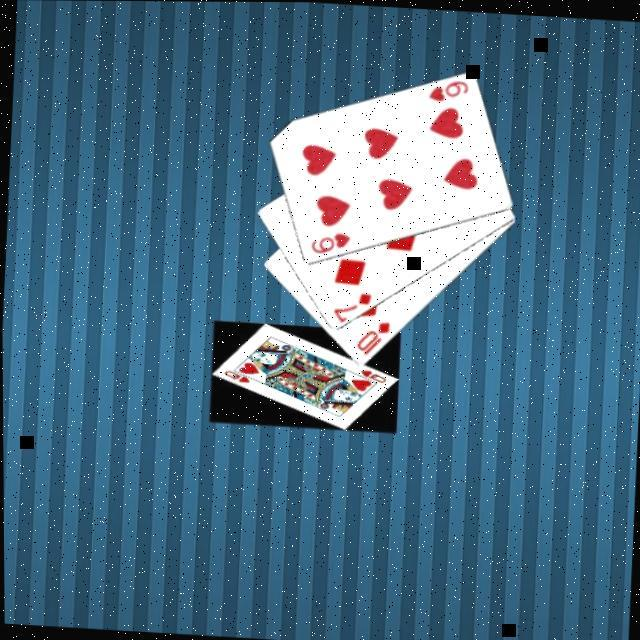10D: (353, 316, 393, 361)
6H: (426, 76, 472, 107), (308, 229, 354, 259)
7D: (330, 288, 376, 326)
